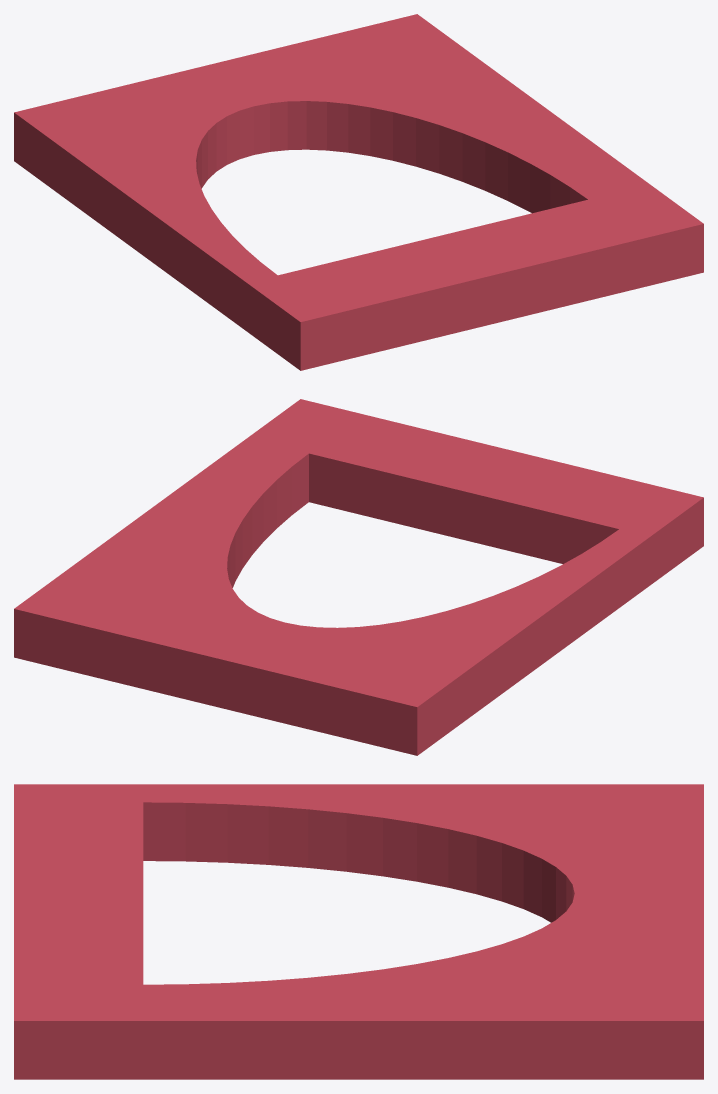
Rendered from forat_semicercle.glb.
3 renders of one model, top to bottom at view 1: azimuth 30°, elevation 25°; view 2: azimuth 150°, elevation 25°; view 3: azimuth 270°, elevation 25°, orthographic. The views are drawn at different scales.
Visible parts, largest first — view 1: Mesh_Mesh_head_geo.001_lambert2SG.001; view 2: Mesh_Mesh_head_geo.001_lambert2SG.001; view 3: Mesh_Mesh_head_geo.001_lambert2SG.001.
Part boxes in pixels (bbox=[...]): Mesh_Mesh_head_geo.001_lambert2SG.001: bbox=[14, 14, 703, 370]; Mesh_Mesh_head_geo.001_lambert2SG.001: bbox=[14, 399, 703, 755]; Mesh_Mesh_head_geo.001_lambert2SG.001: bbox=[14, 784, 703, 1079].
Bounding box in the file's own units: 26 × 3 × 32.
